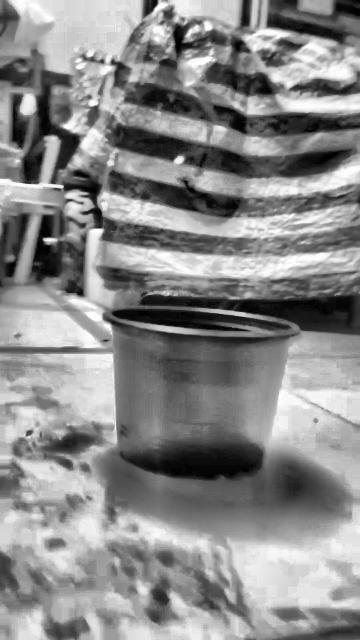pot: (103, 304, 300, 479)
